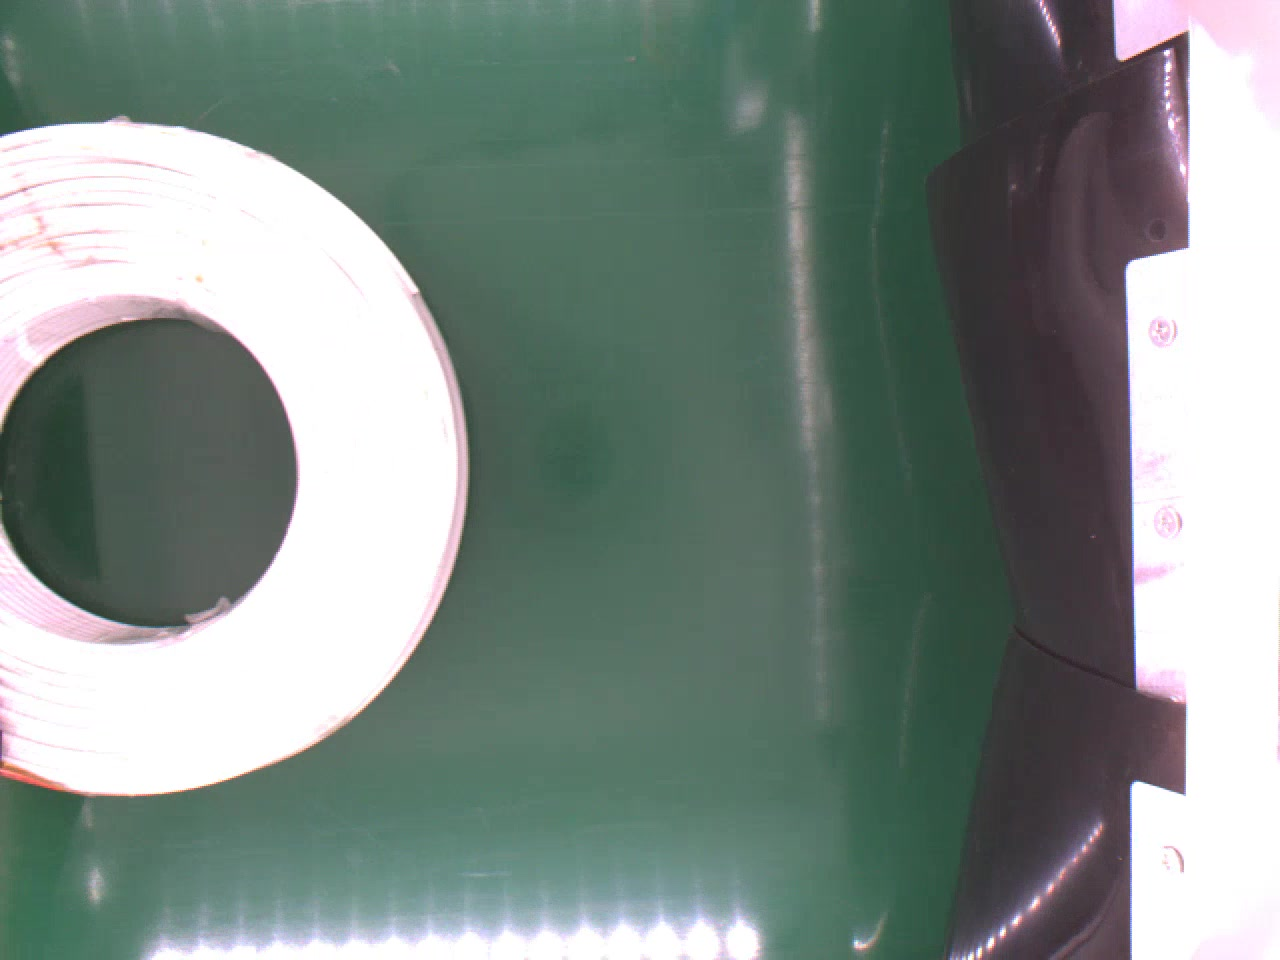white: (0, 112, 470, 799)
